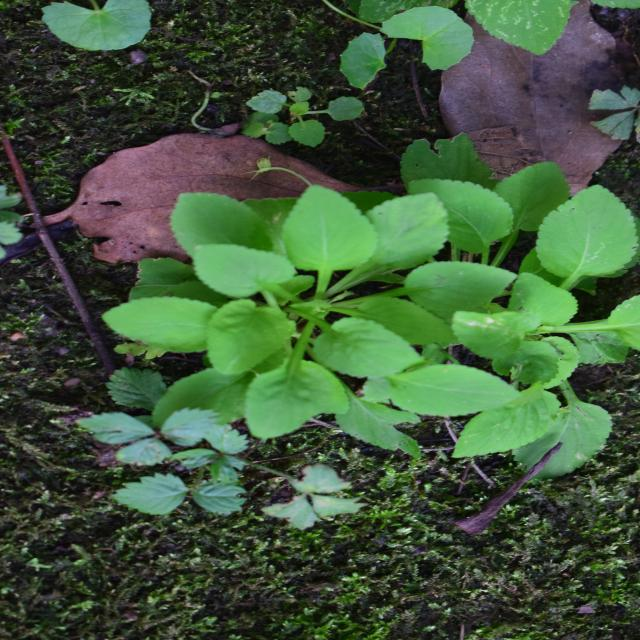Viola: (176, 134, 426, 428)
